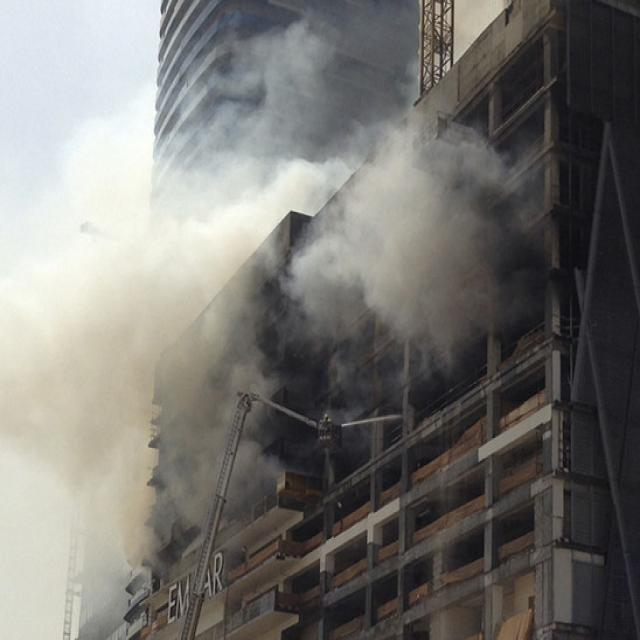Smoke: (2, 122, 518, 640)
